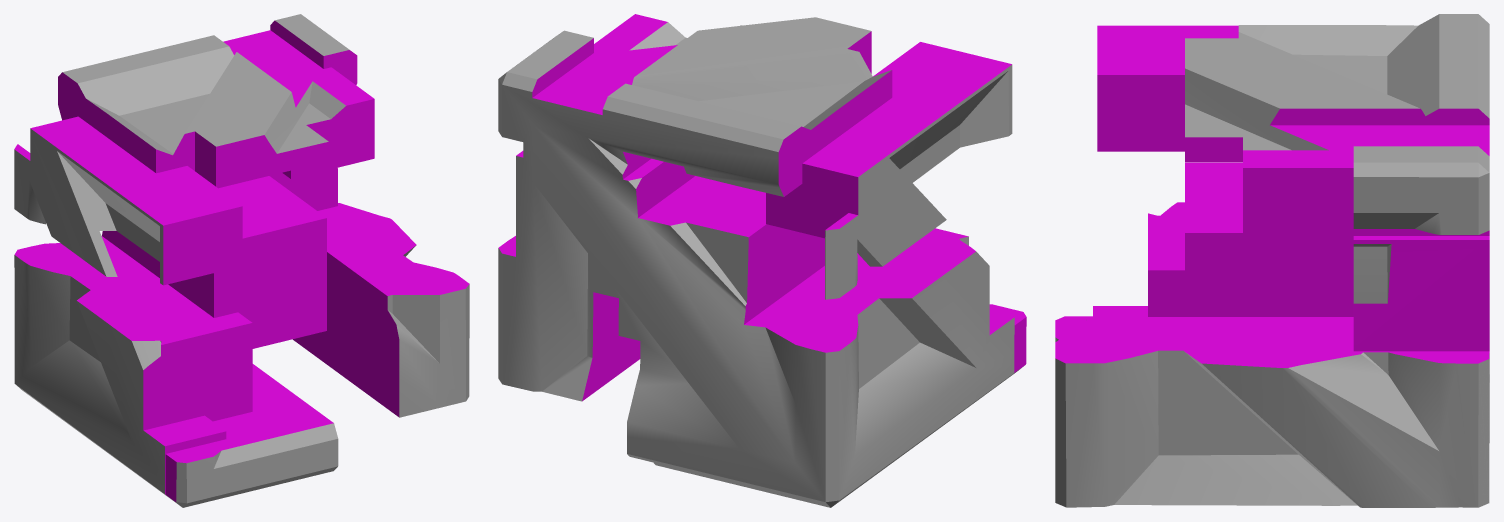
File: Crate_Glitch.fbx
3 views of the same model, side by side, from view 1: azimuth 30°, elevation 25°; view 2: azimuth 150°, elevation 25°; view 3: azimuth 270°, elevation 25° (orthographic). The views are drawn at different scales.
Visible parts, largest first — view 1: Crate_Glitch; view 2: Crate_Glitch; view 3: Crate_Glitch.
Part boxes in pixels (x1,y1,x2,y2): Crate_Glitch: [14, 14, 469, 507]; Crate_Glitch: [498, 14, 1026, 507]; Crate_Glitch: [1055, 14, 1489, 507].
Bounding box in the file's own units: 1.03 × 1.02 × 1.
